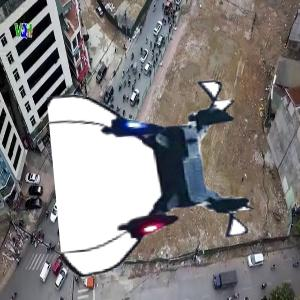drone: (55, 73, 257, 275)
